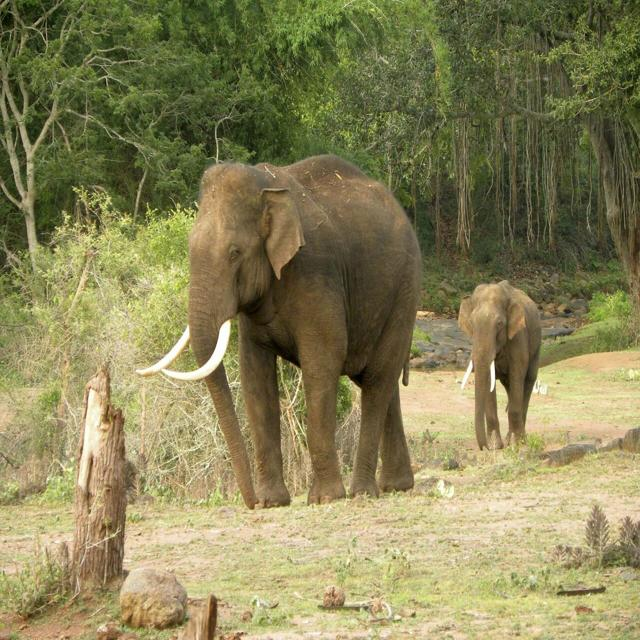elephant: (107, 124, 445, 527), (427, 255, 574, 482)
